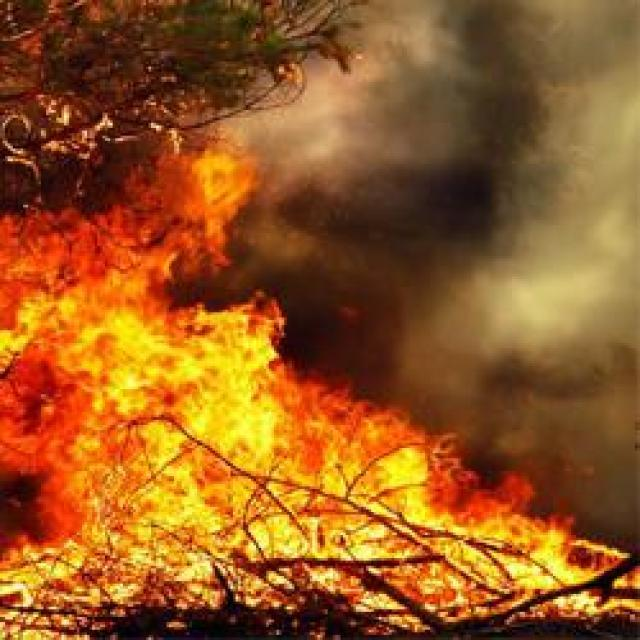Fire: (0, 422, 637, 639), (0, 162, 288, 417)
Smoke: (312, 0, 640, 371)
